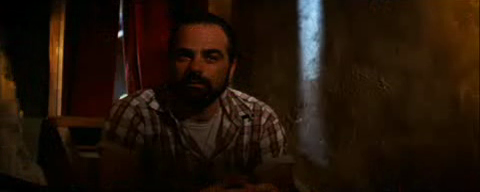face: (171, 35, 226, 107)
mcu: (1, 1, 480, 191)
person: (100, 11, 289, 192)
